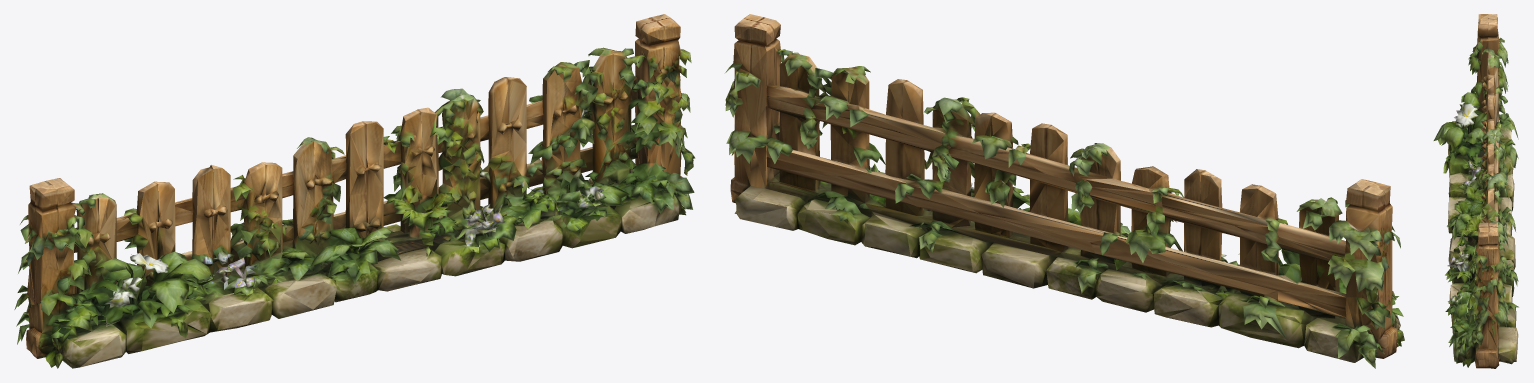
The model's file is right_enclosure.glb.
3 renders of one model, left to right at view 1: azimuth 30°, elevation 25°; view 2: azimuth 150°, elevation 25°; view 3: azimuth 270°, elevation 25°, orthographic. The views are drawn at different scales.
Parts seen in each view (by area): view 1: tripo_node_d0b2127f; view 2: tripo_node_d0b2127f; view 3: tripo_node_d0b2127f.
Boxes of the visible parts, x1,y1,x2,y2 form: tripo_node_d0b2127f: (14,14,695,368); tripo_node_d0b2127f: (724,14,1404,368); tripo_node_d0b2127f: (1433,14,1518,368).
Bounding box in the file's own units: 3.19 × 0.8474 × 0.4827.
1 material, 1 textured.
